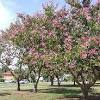ylang-ylang: (17, 12, 43, 67)
